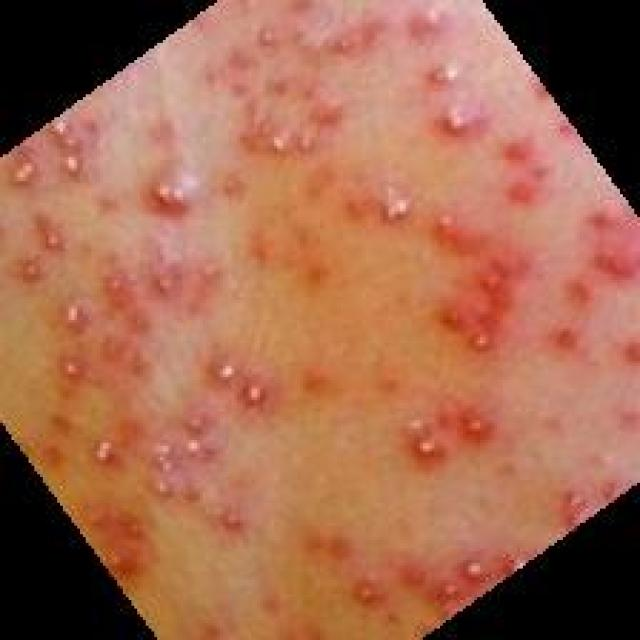others: (48, 104, 597, 601)
